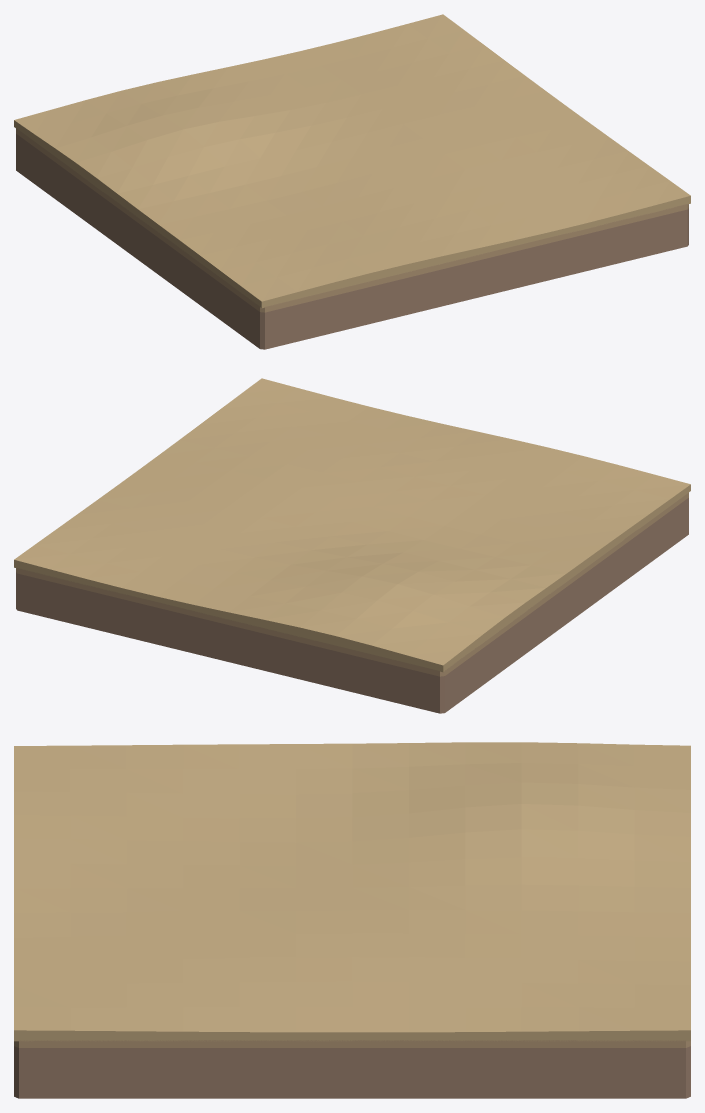
3 views of the same model, one above another, from view 1: azimuth 30°, elevation 25°; view 2: azimuth 150°, elevation 25°; view 3: azimuth 270°, elevation 25° (orthographic). The views are drawn at different scales.
Parts seen in each view (by area): view 1: B04; view 2: B04; view 3: B04.
Part boxes in pixels (box(x1,y1,x2,y2)): B04: box(14, 14, 690, 349); B04: box(14, 378, 690, 713); B04: box(14, 742, 690, 1098).
Size of the model in its own units: 8 by 1.05 by 8.
